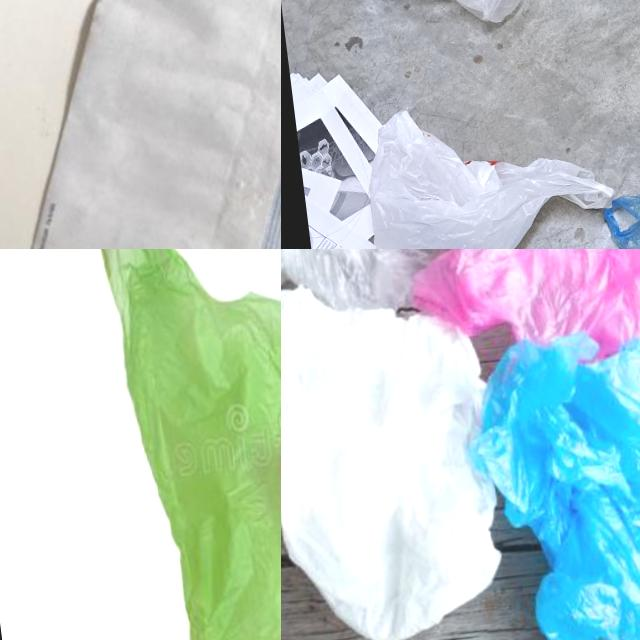papel: (0, 0, 281, 249), (289, 61, 416, 249)
sacola plástica: (281, 285, 518, 640), (82, 249, 281, 640), (482, 332, 640, 640), (359, 82, 629, 249), (414, 249, 640, 346)
